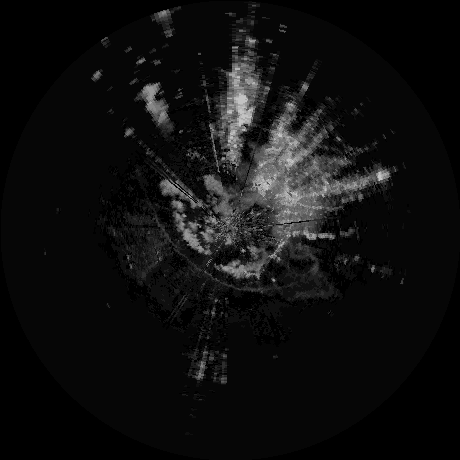frontgust: (153, 203, 172, 240)
